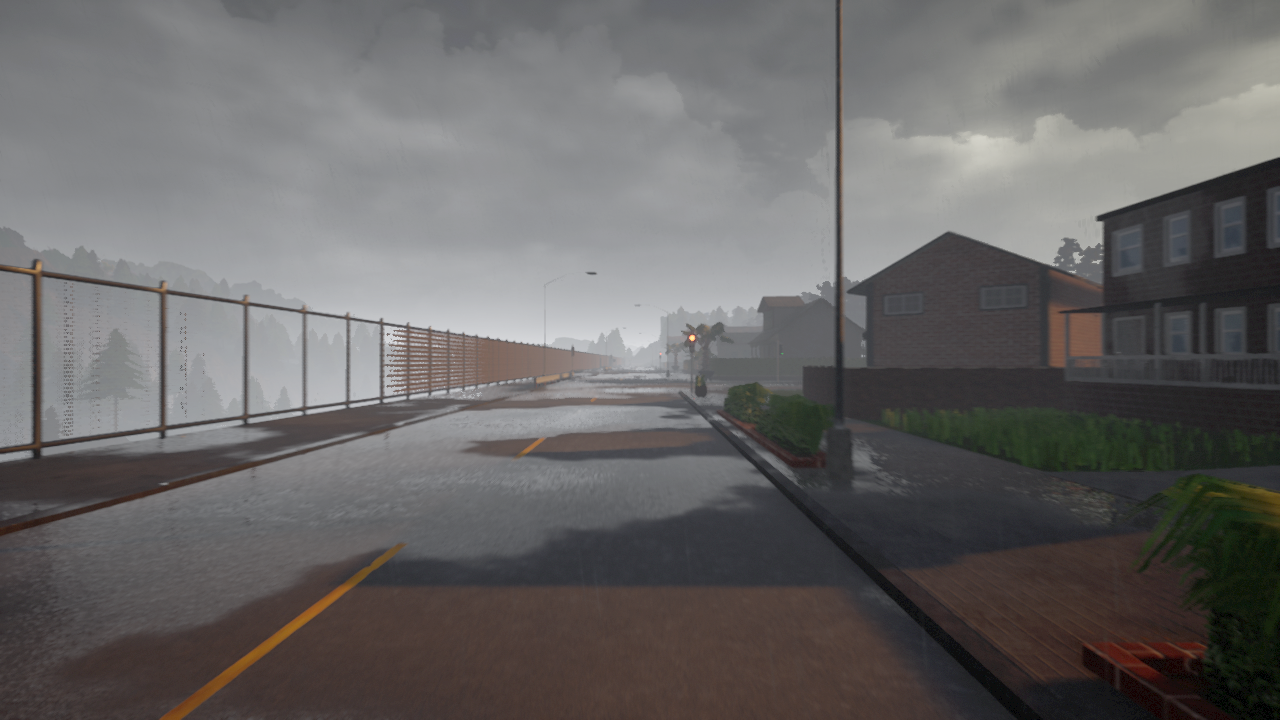red: (687, 333, 696, 352)
